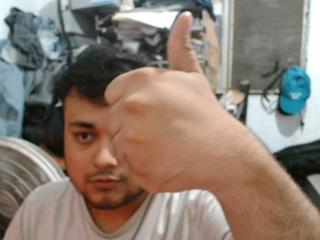Adelante: (95, 7, 279, 207)
